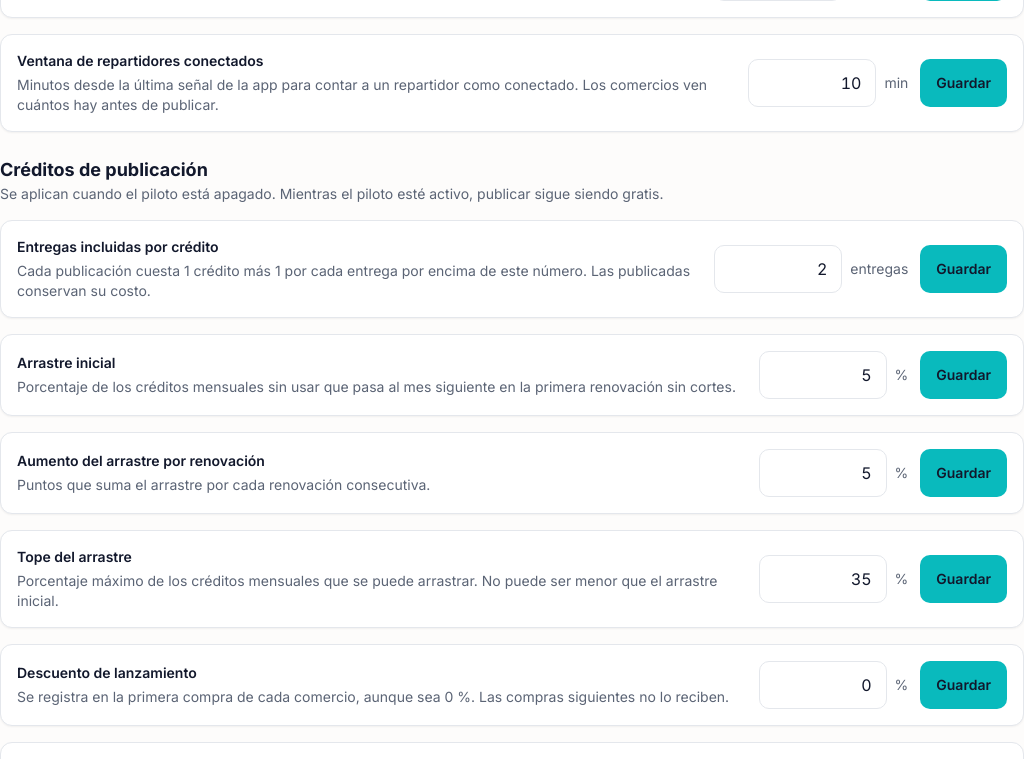
T-369 / CC-029: parámetros de créditos, arrastre y descuento › el rechazo de la RPC (base por encima del tope) queda visible en la fila
(page scrolled)
Replace the text in the field labelled "Arrastre inicial" with "40" at (823, 375), box [759,351,887,399]
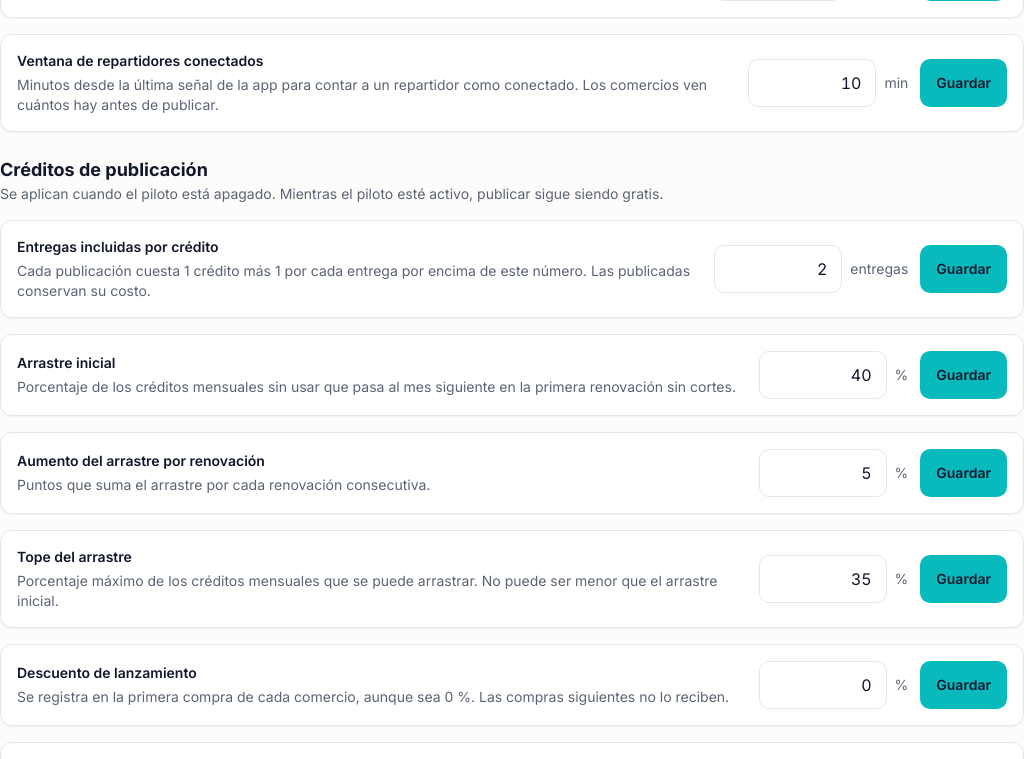
Click the button named "guardar arrastre inicial" at (964, 375), box [920,351,1007,399]
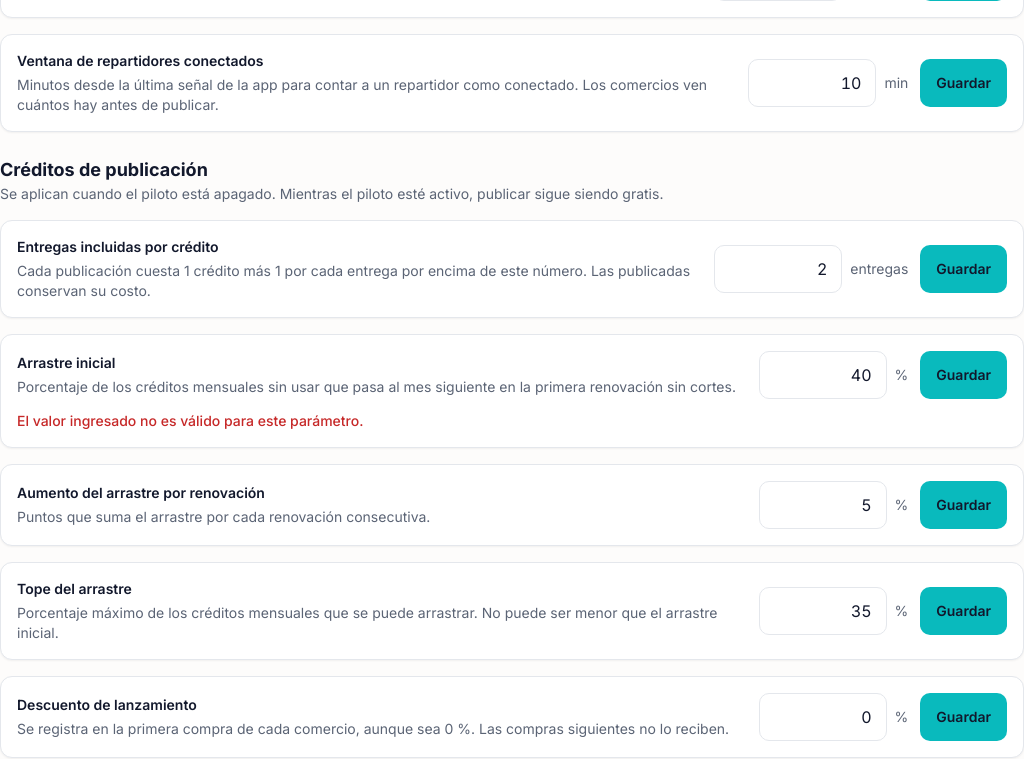
Check: the text "El valor ingresado no es válido para este parámetro." is shown, box [17,412,363,429]
